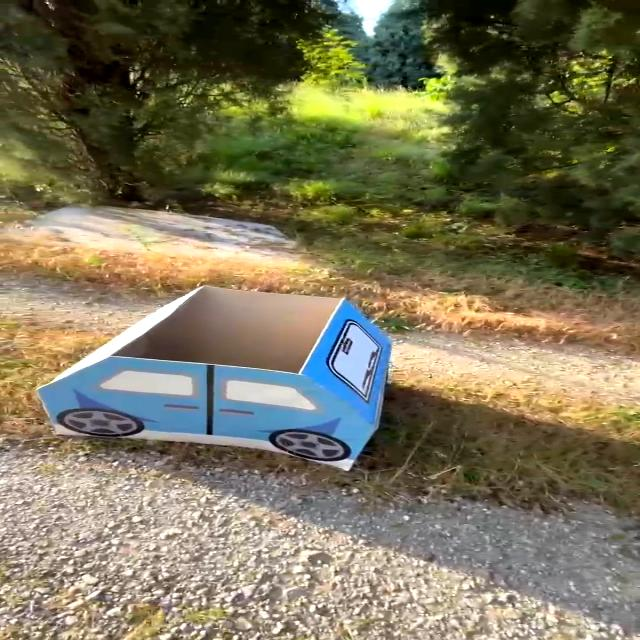blue_car: (9, 262, 416, 490)
